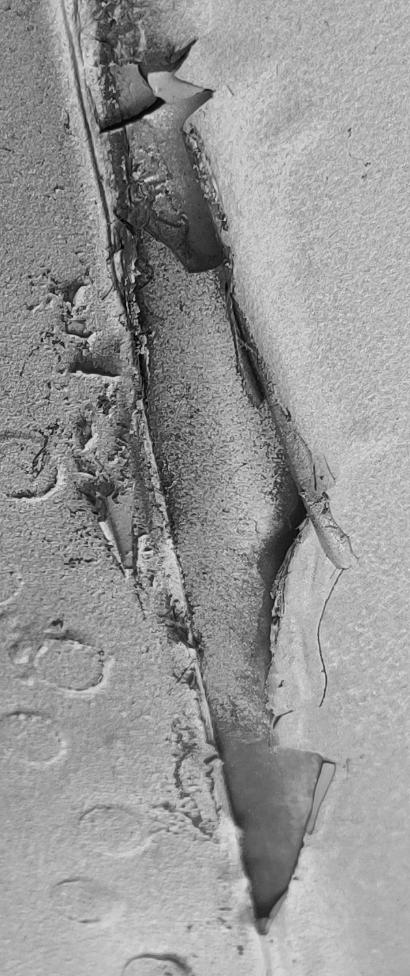paint-off: (0, 1, 409, 976)
